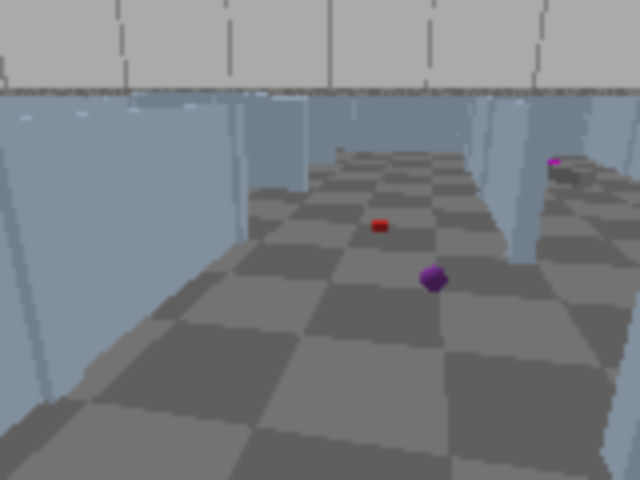obstacle: (547, 164, 595, 187)
puck: (418, 261, 449, 297)
